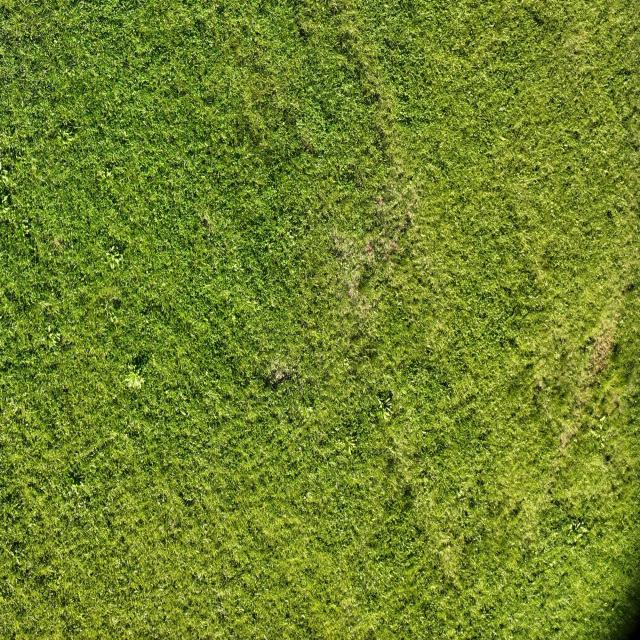rumex: (413, 413, 516, 574), (284, 404, 384, 549), (301, 96, 378, 195), (89, 150, 138, 212), (358, 109, 402, 167), (88, 273, 131, 319), (509, 156, 553, 194), (20, 214, 44, 266), (292, 4, 322, 44), (616, 226, 640, 266), (239, 282, 269, 312), (437, 543, 457, 576), (2, 485, 25, 512), (198, 212, 218, 241), (564, 516, 590, 538), (335, 30, 357, 56), (527, 4, 549, 28), (376, 392, 395, 419), (123, 369, 145, 391), (362, 89, 381, 110), (228, 34, 246, 56), (298, 134, 316, 156), (568, 527, 586, 546), (47, 325, 63, 346), (383, 36, 399, 56), (384, 453, 400, 471), (228, 260, 242, 278), (502, 67, 515, 86), (348, 328, 364, 343), (343, 438, 357, 455), (294, 118, 307, 135), (437, 375, 451, 390), (61, 130, 74, 146), (194, 568, 207, 583), (110, 252, 123, 266), (296, 24, 308, 39), (535, 377, 546, 393), (182, 494, 196, 506), (167, 517, 178, 532), (204, 94, 216, 107), (52, 236, 63, 250), (113, 166, 125, 178), (69, 483, 79, 497), (40, 302, 54, 312), (618, 68, 632, 78), (201, 213, 210, 228), (103, 168, 113, 181), (0, 168, 10, 180), (478, 431, 488, 443), (507, 336, 517, 348), (372, 91, 382, 103), (108, 257, 117, 270), (288, 113, 297, 126), (20, 222, 30, 233), (379, 128, 387, 141), (98, 170, 108, 180), (456, 489, 466, 499), (60, 427, 70, 437), (540, 260, 550, 270), (1, 193, 10, 204), (109, 246, 118, 256), (305, 406, 314, 416), (590, 428, 600, 437), (232, 310, 240, 321), (2, 204, 10, 215), (218, 136, 226, 146), (572, 130, 580, 140), (343, 357, 351, 367), (332, 232, 340, 242), (251, 611, 258, 622), (95, 138, 103, 147), (180, 408, 188, 417), (111, 616, 118, 626), (306, 492, 313, 502), (600, 434, 606, 445), (22, 228, 30, 236), (217, 590, 225, 598), (598, 414, 606, 422), (542, 322, 550, 330), (121, 129, 128, 138), (482, 72, 489, 81), (561, 142, 568, 150), (554, 352, 561, 360), (426, 345, 432, 354), (547, 412, 552, 422), (78, 481, 85, 488), (436, 141, 442, 149), (499, 136, 507, 142), (610, 76, 616, 84), (127, 628, 133, 636), (175, 379, 180, 388), (498, 106, 505, 112), (574, 220, 580, 227), (48, 324, 52, 334), (113, 395, 118, 403), (602, 169, 608, 175), (222, 513, 226, 520), (528, 146, 532, 151)
